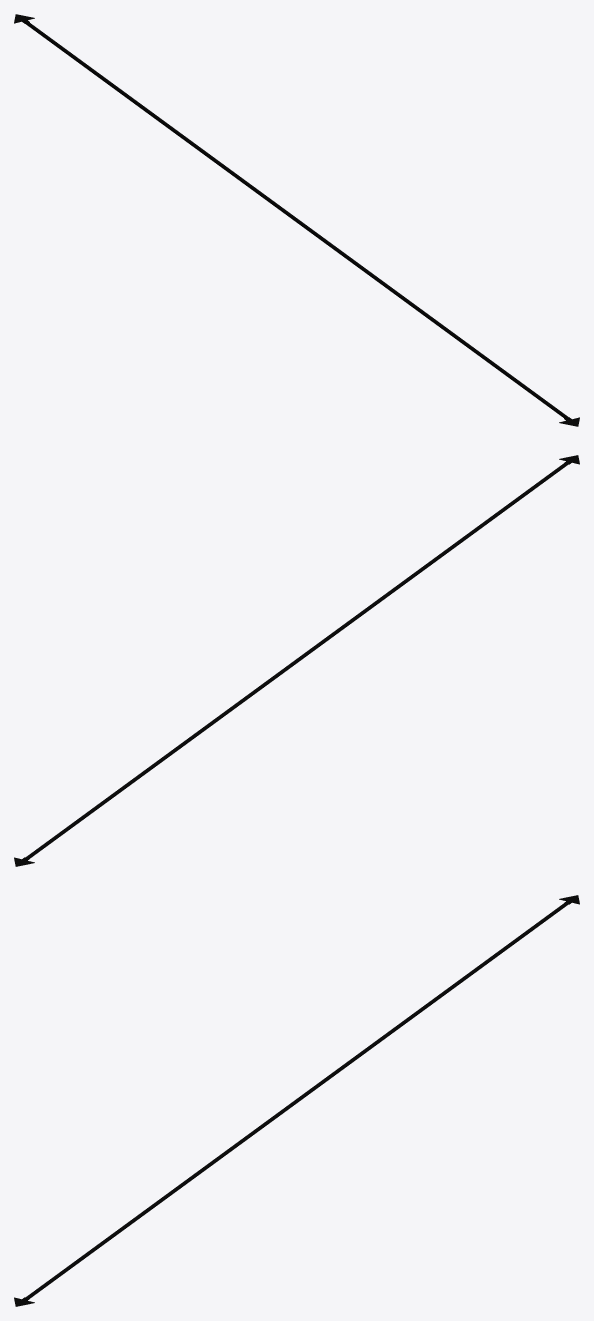
Rendered from vector.glb.
3 views of the same model, one above another, from view 1: azimuth 30°, elevation 25°; view 2: azimuth 150°, elevation 25°; view 3: azimuth 330°, elevation 25° (orthographic).
Visible parts, largest first — view 1: Cylinder.002, Cylinder.001; view 2: Cylinder.001, Cylinder.002; view 3: Cylinder.002, Cylinder.001.
Boxes of the visible parts, x1,y1,x2,y2 form: Cylinder.002: [295, 218, 579, 426]; Cylinder.001: [14, 14, 297, 221]; Cylinder.001: [14, 658, 299, 866]; Cylinder.002: [296, 455, 579, 661]; Cylinder.002: [14, 1098, 299, 1306]; Cylinder.001: [296, 895, 579, 1101].
Bounding box in the file's own units: 0.029 × 0.00434 × 1.31.
Materials: 2 (2 with a texture image).
